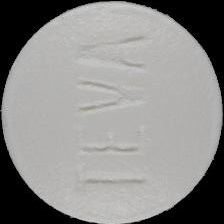0093-7536: (0, 0, 224, 224)
